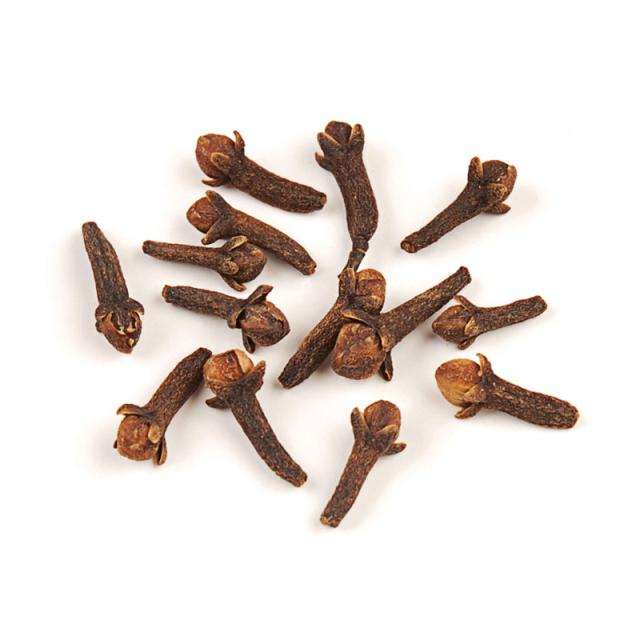clove: (279, 122, 471, 388), (205, 350, 305, 484), (321, 400, 405, 526), (436, 355, 578, 428), (164, 286, 270, 326)
